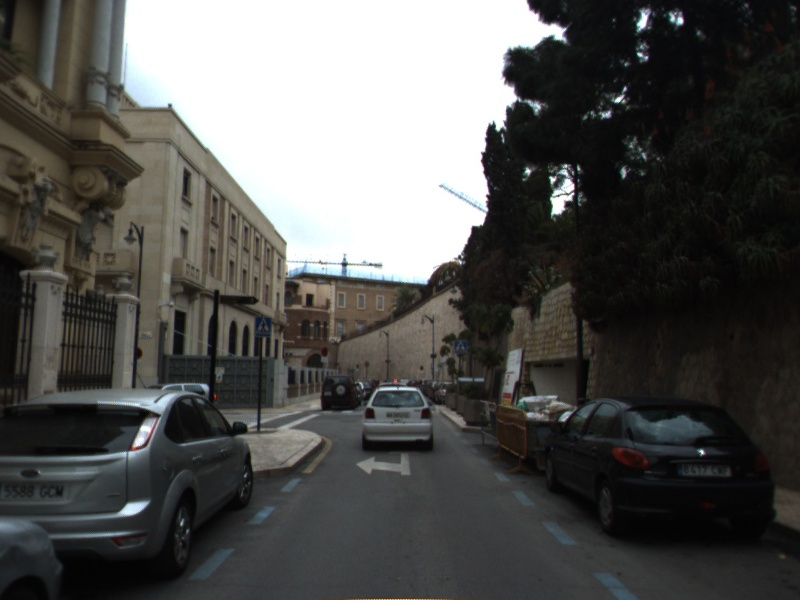STRAIGHT_LEFT: (354, 448, 419, 477)
